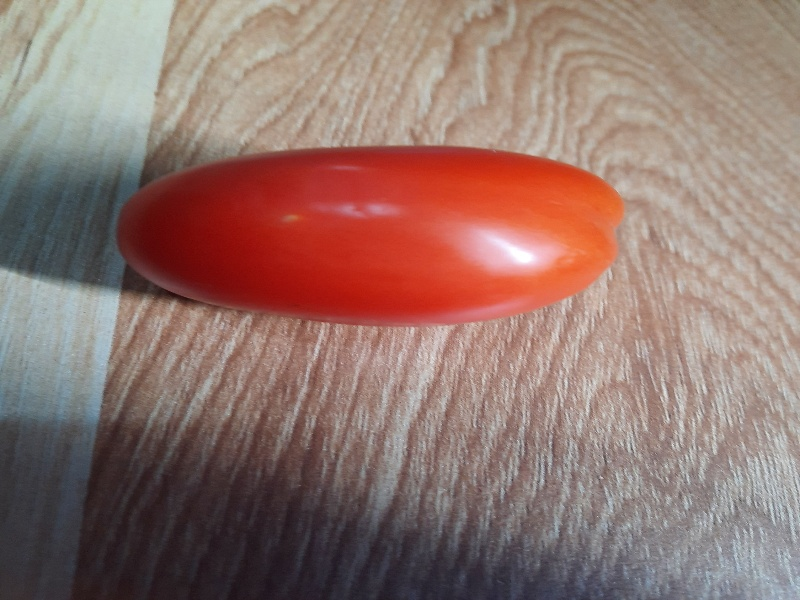vege: (112, 145, 625, 322)
